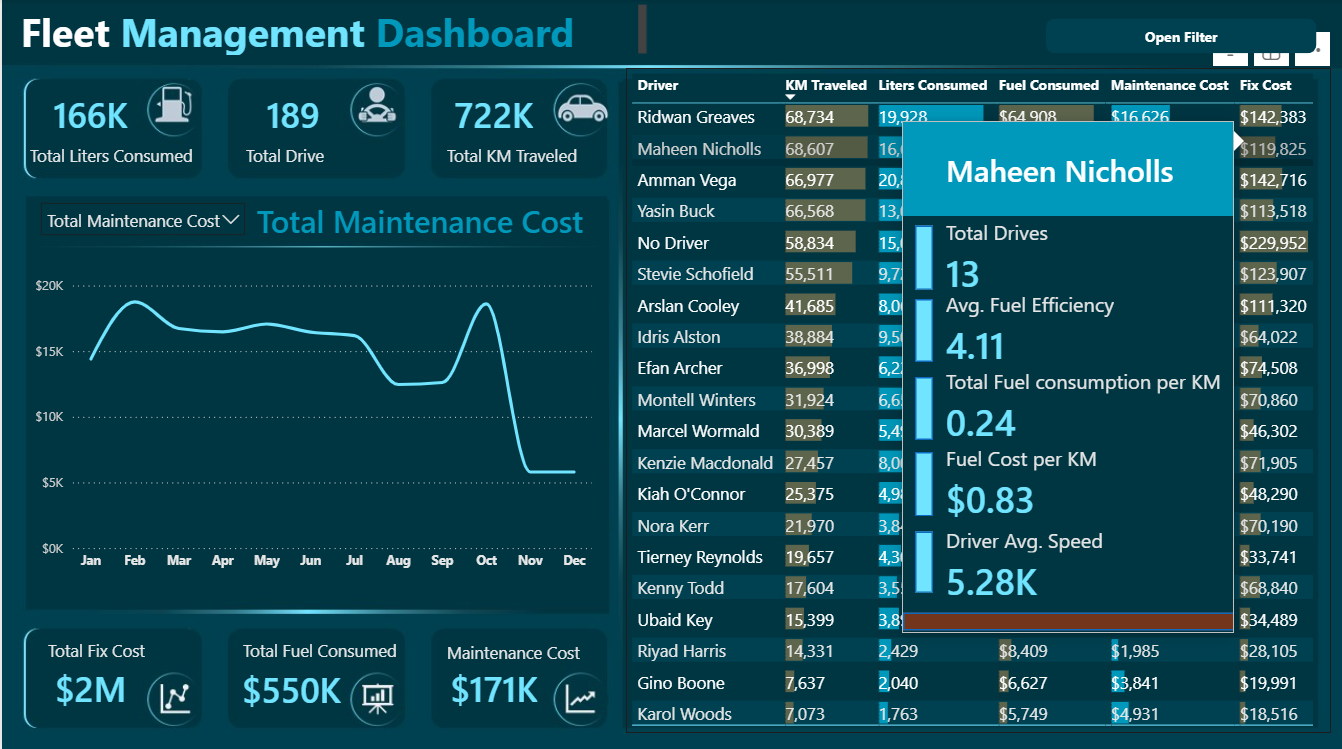

The dashboard page shown, as its layout file describes it:
{"tool":"powerbi","page":{"name":"Driver Dashboard","canvas":[1280,720],"ordinal":0},"visuals":[{"type":"tableEx","fields":{"Values":["Dim_Drivers.Driver","Measure Table.Total KM Traveled","Measure Table.Total Liters Consumed","Measure Table.Total Fuel Consumed","Measure Table.Total Maintenance Cost","Measure Table.Total Fix Cost"]},"box":[595.3,66,673.4,634.4],"z":0},{"type":"lineChart","fields":{"Y":["Measure Table.Total Maintenance Cost"],"Category":["DateTable.Months.Year","DateTable.Months.Month","DateTable.Months.Quarter"]},"box":[26.3,259.6,542.1,294.7],"z":1000},{"type":"slicer","fields":{"Values":["Switch Driver Measures.Switch Driver Measures"]},"box":[27.7,185.4,214.7,47.2],"z":2000},{"type":"cardVisual","fields":{"Data":["Measure Table.Total Liters Consumed"]},"box":[0,57.7,169.2,102.5],"z":3000},{"type":"cardVisual","fields":{"Data":["Measure Table.Total Drive"]},"box":[192.7,58.6,169.2,100.8],"z":4000},{"type":"cardVisual","fields":{"Data":["Measure Table.Total KM Traveled"]},"box":[385.5,59.4,169.2,99.2],"z":5000},{"type":"cardVisual","fields":{"Data":["Measure Table.Total Fix Cost"]},"box":[0,606.7,169.2,99.2],"z":6000},{"type":"cardVisual","fields":{"Data":["Measure Table.Total Fuel Consumed"]},"box":[192.3,607.7,169.2,100],"z":7000},{"type":"cardVisual","fields":{"Data":["Measure Table.Total Maintenance Cost"]},"box":[385.5,606.7,169.2,99.2],"z":8000},{"type":"cardVisual","fields":{"Rows":["Switch Driver Measures.Switch Driver Measures"]},"box":[226.1,172.4,357.8,118.7],"z":9000},{"type":"textbox","box":[13.4,0,607.5,58.2],"z":10000},{"type":"shape","box":[996.7,18.3,258.3,33.3],"z":11000},{"type":"textbox","box":[21.1,133.3,177.2,50.9],"z":13000},{"type":"textbox","box":[228.1,133.3,96.5,50.9],"z":14000},{"type":"textbox","box":[419.3,133.3,164.9,50.9],"z":15000},{"type":"textbox","box":[38.6,605.3,193,50.9],"z":16000},{"type":"textbox","box":[224.6,605.3,184.2,50.9],"z":17000},{"type":"textbox","box":[419.3,607,175.4,50.9],"z":18000}]}

Visuals, with their boxes in screenshot pixels (x1, y1, x2, y2), scaled from the page's 1280x720 canvas onto the 1342x749 screenshot:
tableEx - Dim_Drivers.Driver x Measure Table.Total KM Traveled: <box>624,69,1330,729</box>
lineChart - Measure Table.Total Maintenance Cost x DateTable.Months.Year: <box>28,270,596,577</box>
slicer - Switch Driver Measures.Switch Driver Measures: <box>29,193,254,242</box>
cardVisual - Measure Table.Total Liters Consumed: <box>0,60,177,167</box>
cardVisual - Measure Table.Total Drive: <box>202,61,379,166</box>
cardVisual - Measure Table.Total KM Traveled: <box>404,62,582,165</box>
cardVisual - Measure Table.Total Fix Cost: <box>0,631,177,734</box>
cardVisual - Measure Table.Total Fuel Consumed: <box>202,632,379,736</box>
cardVisual - Measure Table.Total Maintenance Cost: <box>404,631,582,734</box>
cardVisual - Switch Driver Measures.Switch Driver Measures: <box>237,179,612,303</box>
textbox: <box>14,0,651,61</box>
shape: <box>1045,19,1316,54</box>
textbox: <box>22,139,208,192</box>
textbox: <box>239,139,340,192</box>
textbox: <box>440,139,612,192</box>
textbox: <box>40,630,243,683</box>
textbox: <box>235,630,429,683</box>
textbox: <box>440,631,624,684</box>
